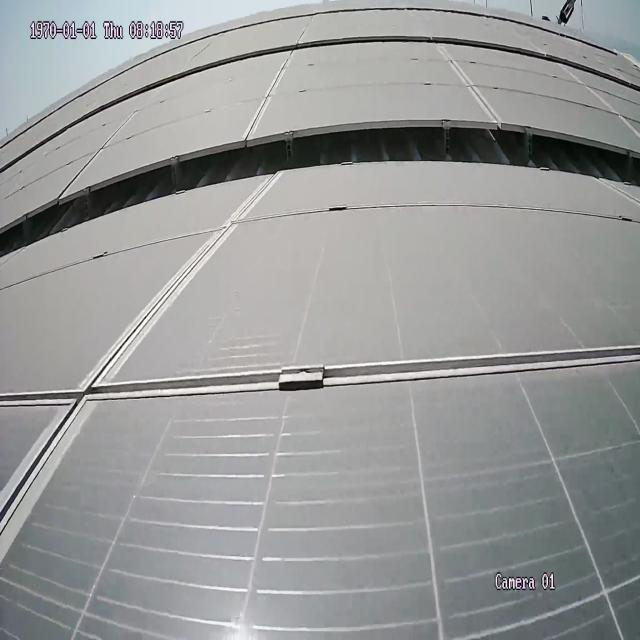interior panel: (5, 193, 633, 563), (63, 123, 129, 193), (242, 61, 296, 128), (439, 56, 500, 113)
outher panel: (2, 121, 639, 265)
